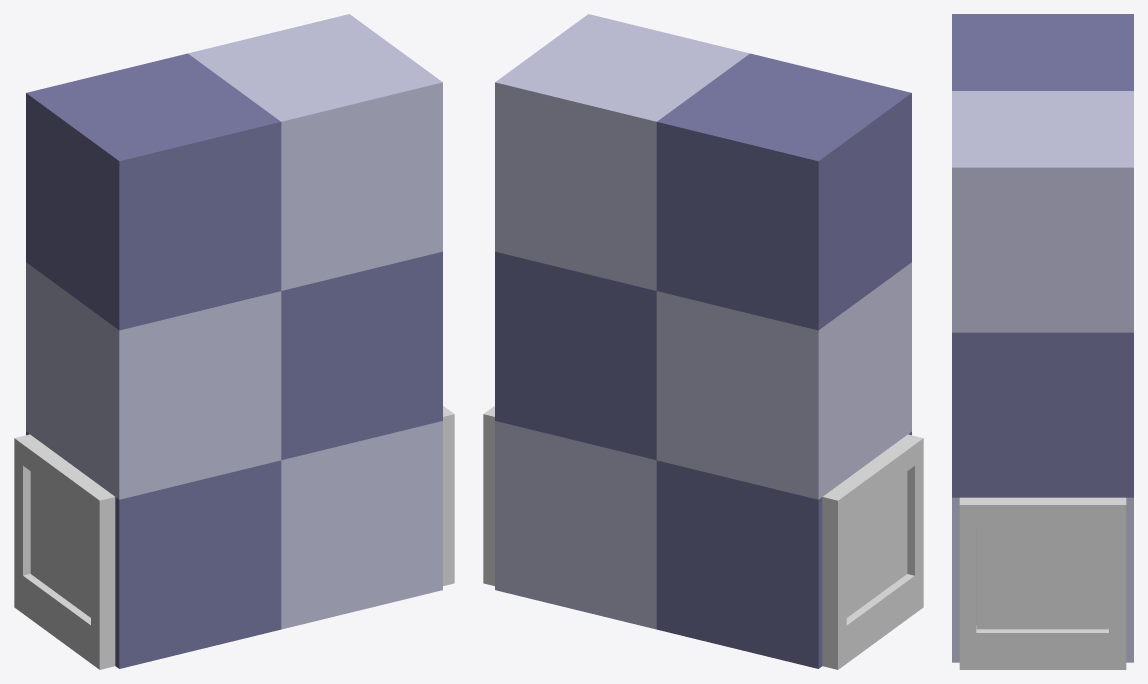
The model's file is unitmicro.fbx.
3 views of the same model, side by side, from view 1: azimuth 30°, elevation 25°; view 2: azimuth 150°, elevation 25°; view 3: azimuth 270°, elevation 25° (orthographic). The views are drawn at different scales.
Parts seen in each view (by area): view 1: SmallStorage_StorageUnitMicro; view 2: SmallStorage_StorageUnitMicro; view 3: SmallStorage_StorageUnitMicro.
Boxes of the visible parts, bbox=[...] form: SmallStorage_StorageUnitMicro: bbox=[14, 14, 454, 669]; SmallStorage_StorageUnitMicro: bbox=[483, 14, 923, 669]; SmallStorage_StorageUnitMicro: bbox=[952, 14, 1133, 669].
Bounding box in the file's own units: 439 × 600 × 200.
